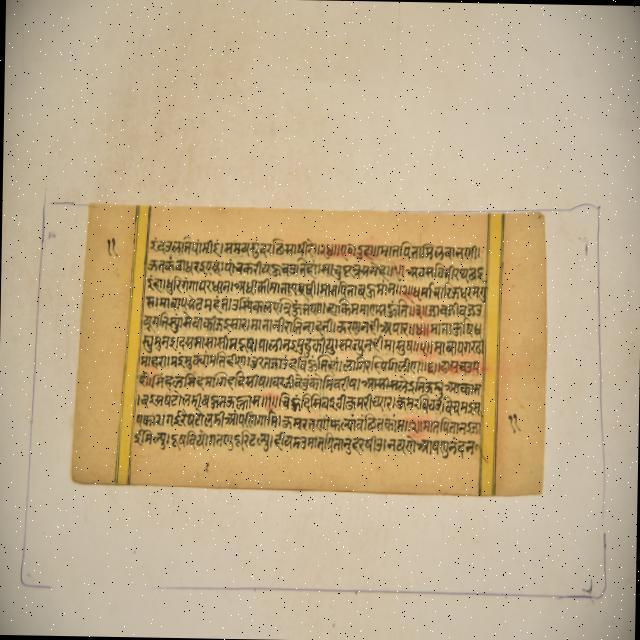text_paragraph: (70, 202, 544, 494)
